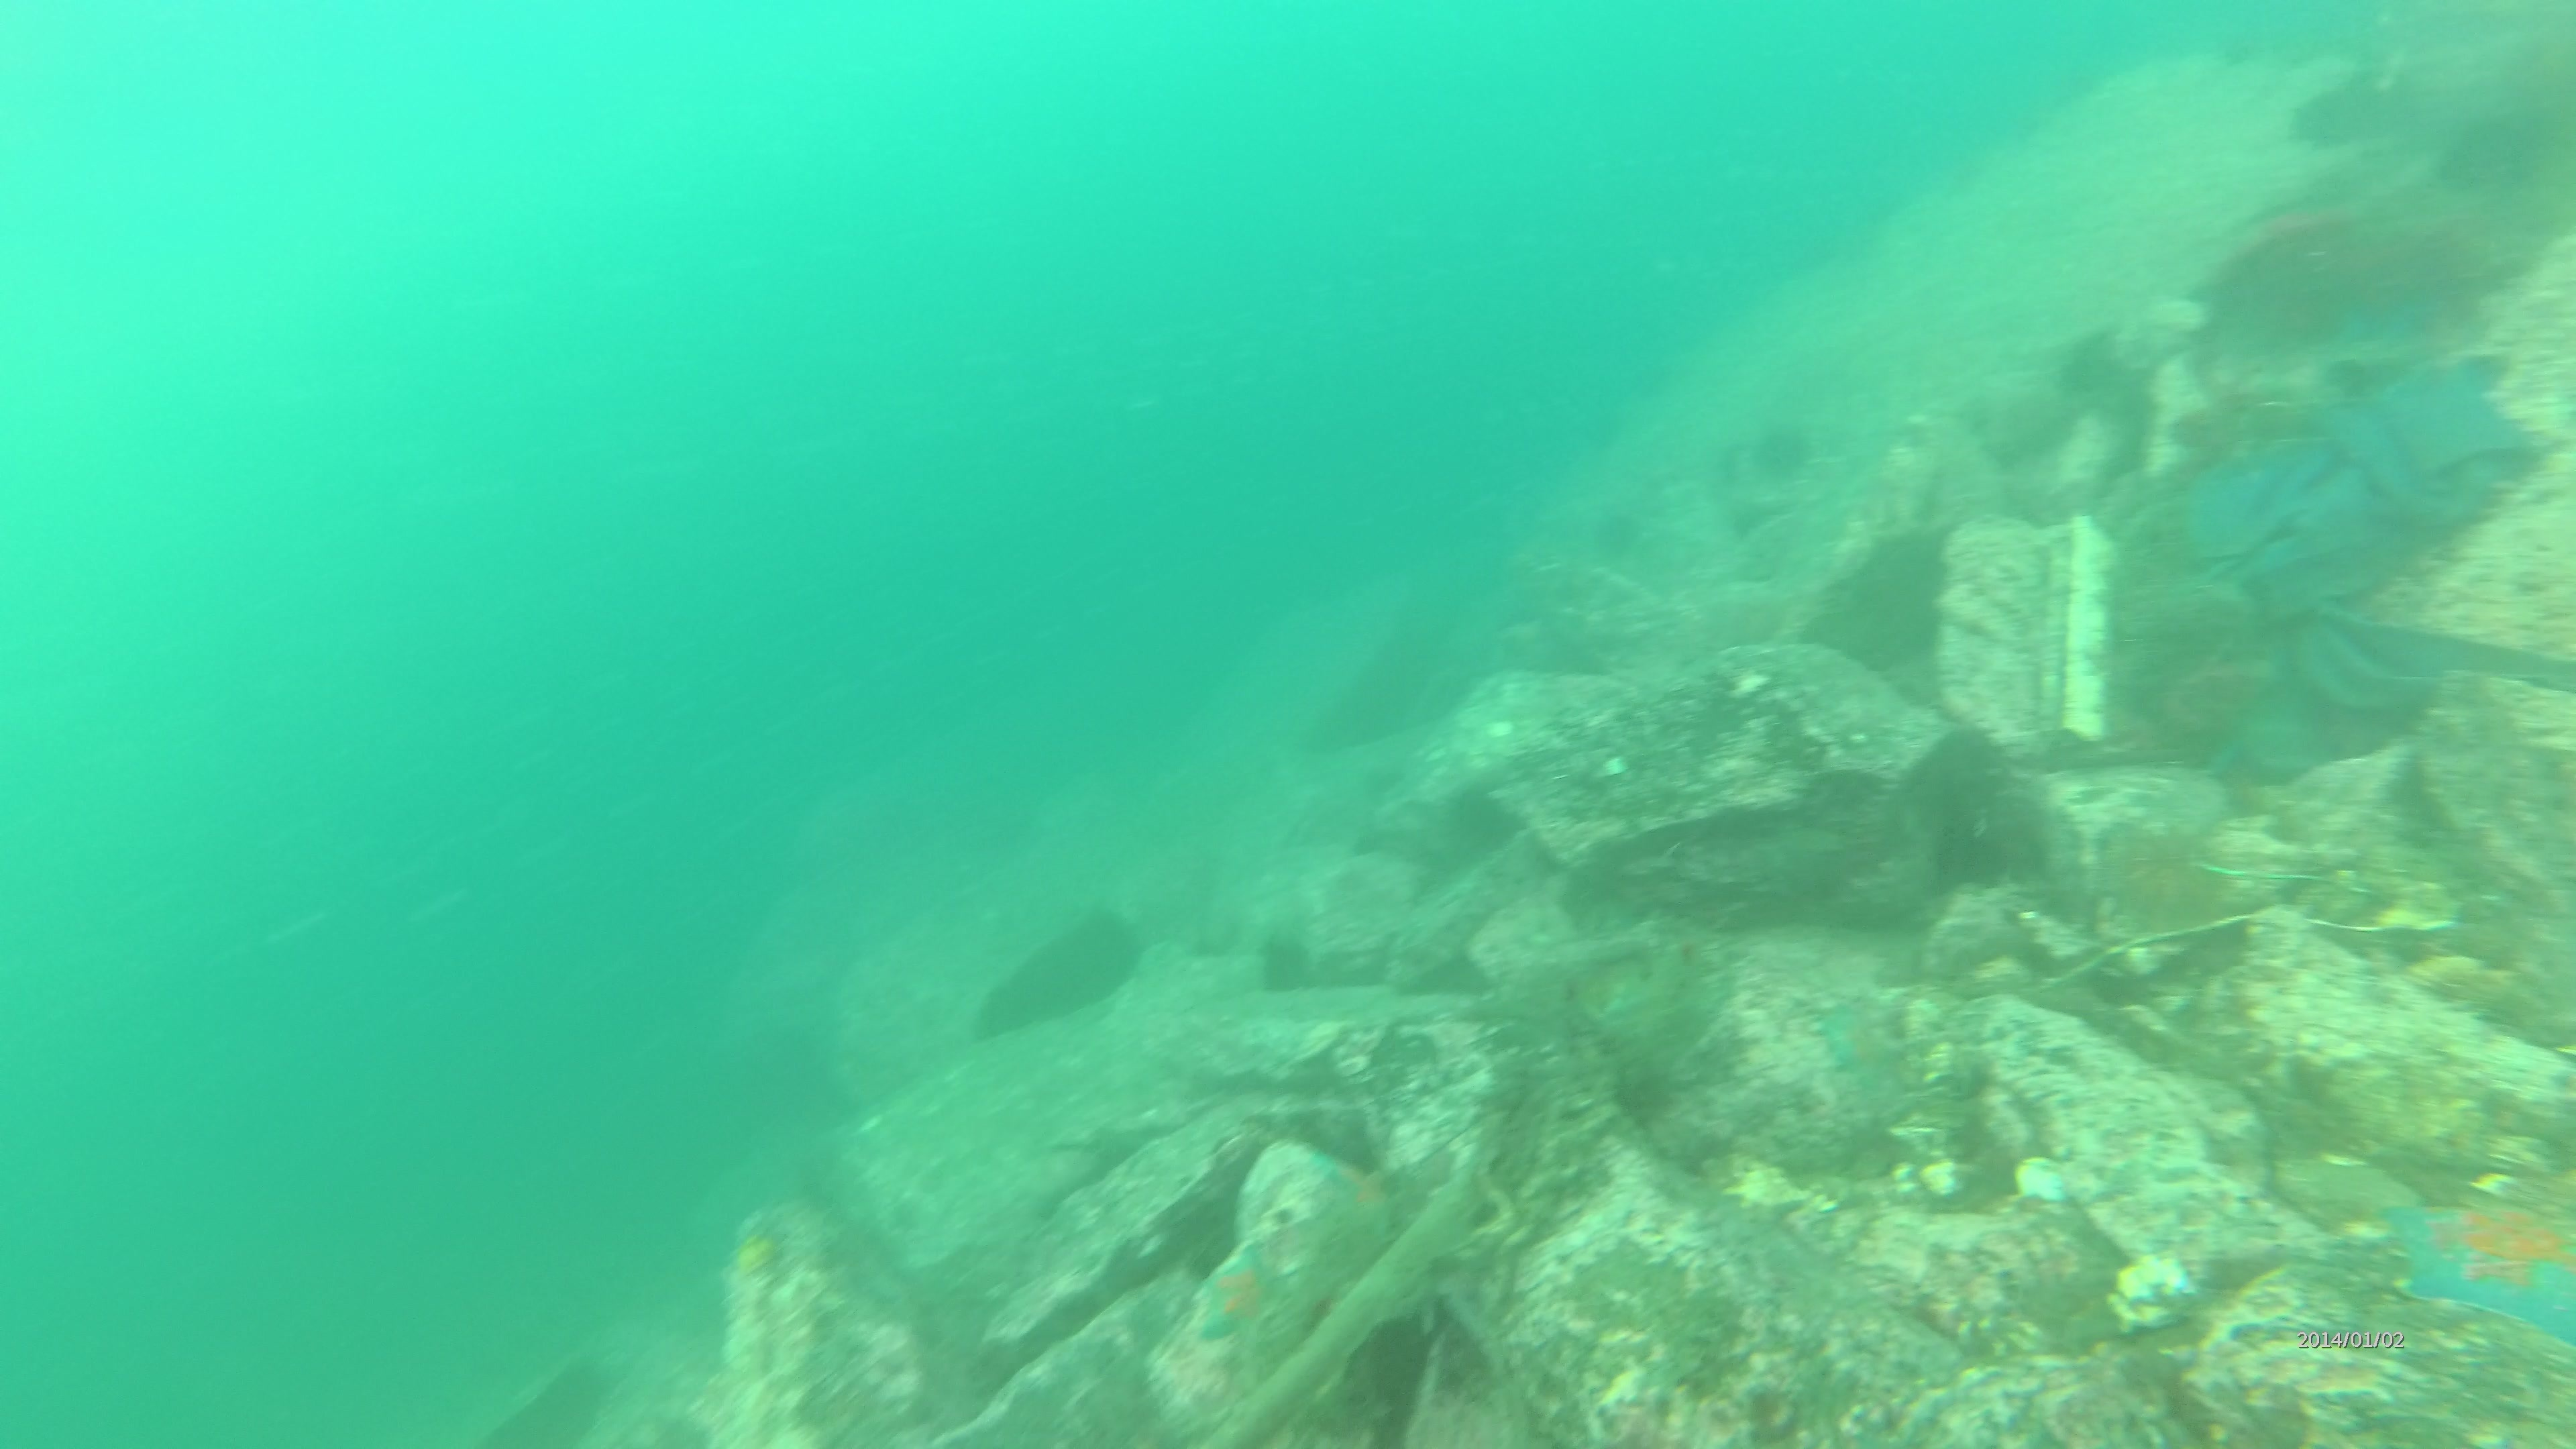echinus: (2120, 823, 2227, 932), (1746, 409, 1824, 488), (1576, 472, 1654, 550)
starfish: (2371, 1196, 2576, 1345), (1192, 1254, 1299, 1332), (1829, 1001, 1907, 1086), (1318, 1143, 1394, 1230)
